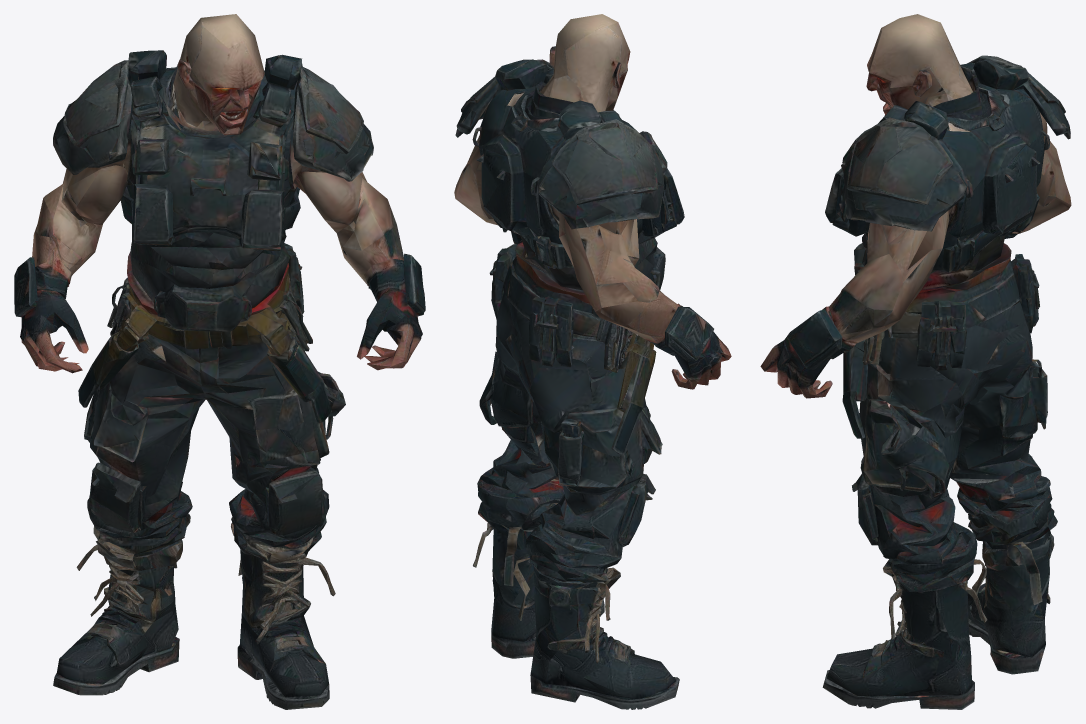
Rendered from zombie-brute.glb.
3 renders of one model, left to right at view 1: azimuth 30°, elevation 25°; view 2: azimuth 150°, elevation 25°; view 3: azimuth 270°, elevation 25°, orthographic. The views are drawn at different scales.
Bounding box in the file's own units: 0.9573 × 1.89 × 0.8187.
Materials: 1 (1 with a texture image).
